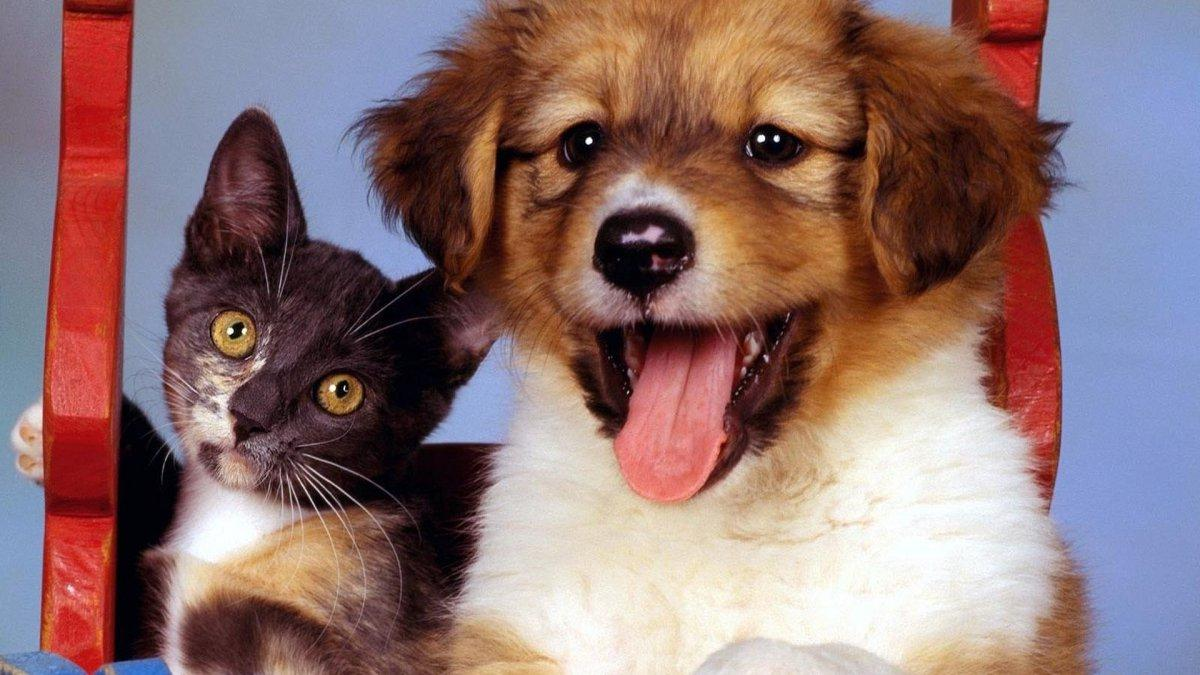animals: (405, 4, 1082, 675), (118, 101, 486, 675)
